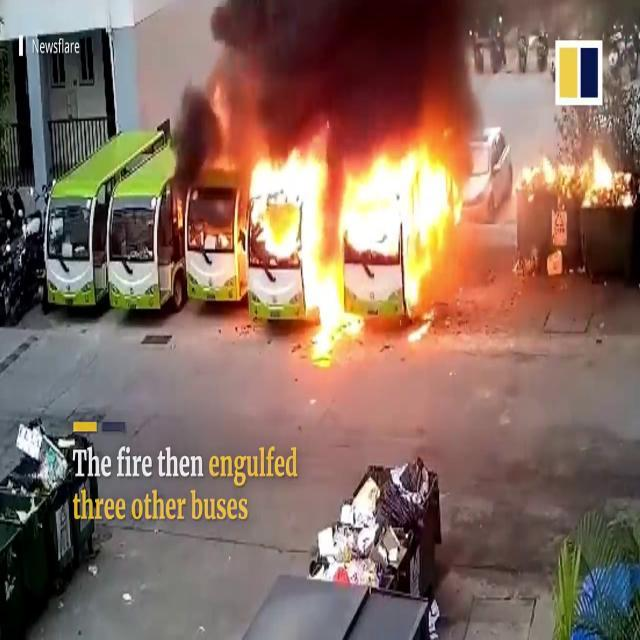Fire: (239, 134, 459, 337), (506, 134, 627, 210)
Smoke: (157, 0, 472, 165)
